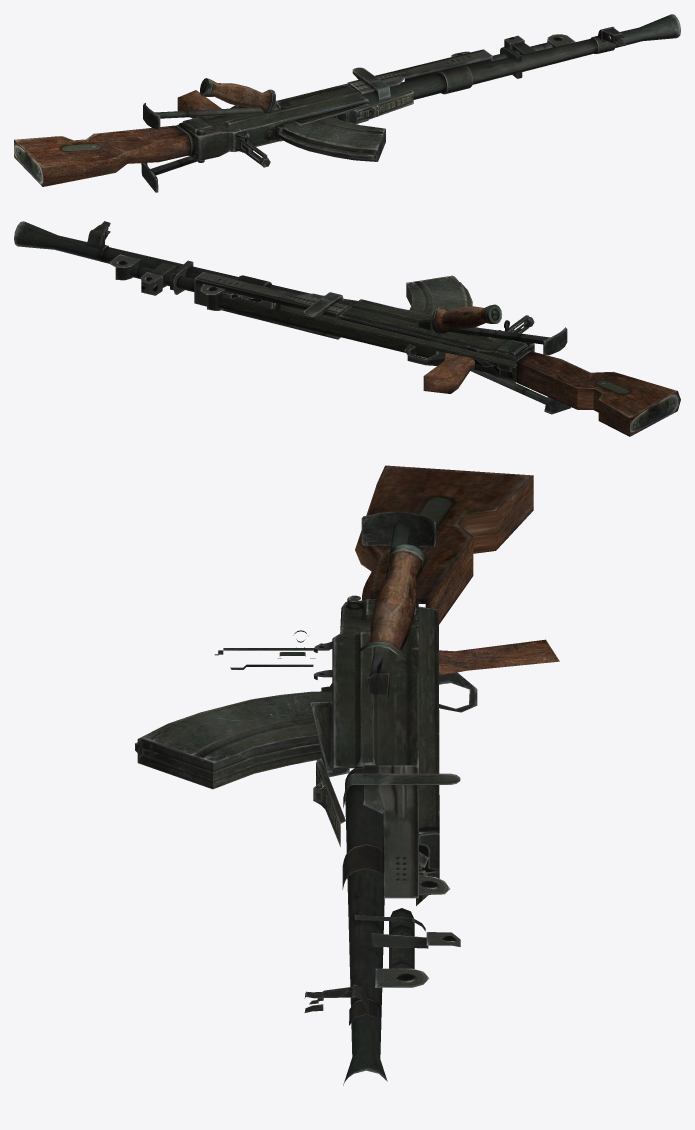
File: viewmodel_bren.glb
The picture shows the model from 3 angles, top to bottom: view 1: azimuth 30°, elevation 25°; view 2: azimuth 150°, elevation 25°; view 3: azimuth 270°, elevation 25°; orthographic projection. The views are drawn at different scales.
Size of the model in its own units: 46.75 by 6.43 by 13.7.
Materials: 1 (1 with a texture image).
